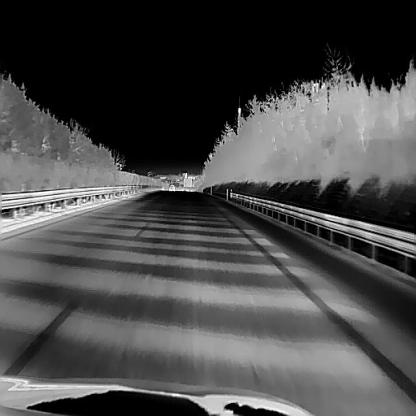car: (168, 183, 175, 190)
